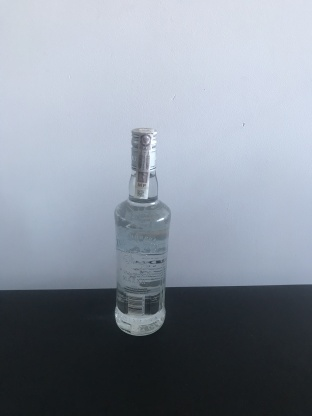nakretka: (128, 122, 160, 174)
